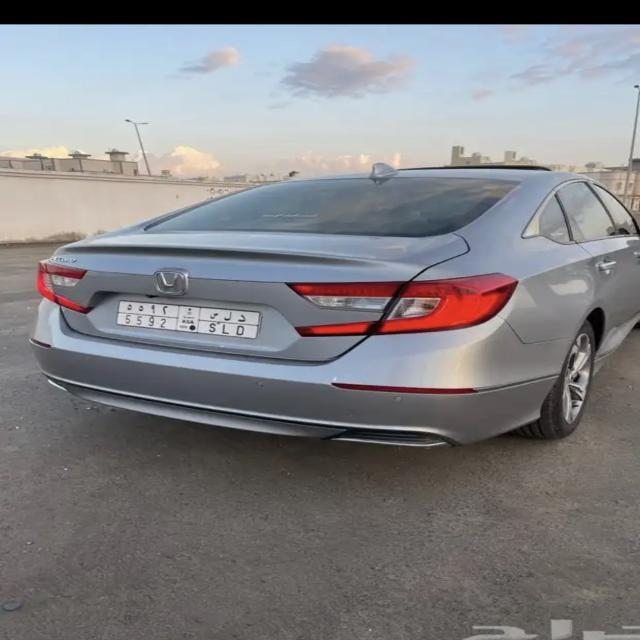license_plate: (114, 298, 258, 340)
